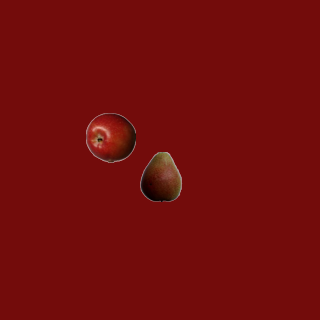Apple Braeburn: (85, 112, 135, 162)
Pear Forelle: (135, 151, 185, 201)
